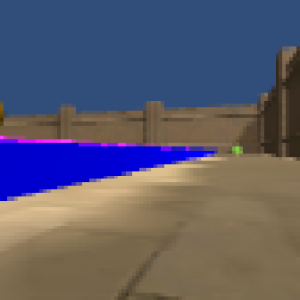goodGoal: (230, 143, 244, 157)
platform: (1, 146, 214, 200)
ramp: (1, 134, 77, 144)
